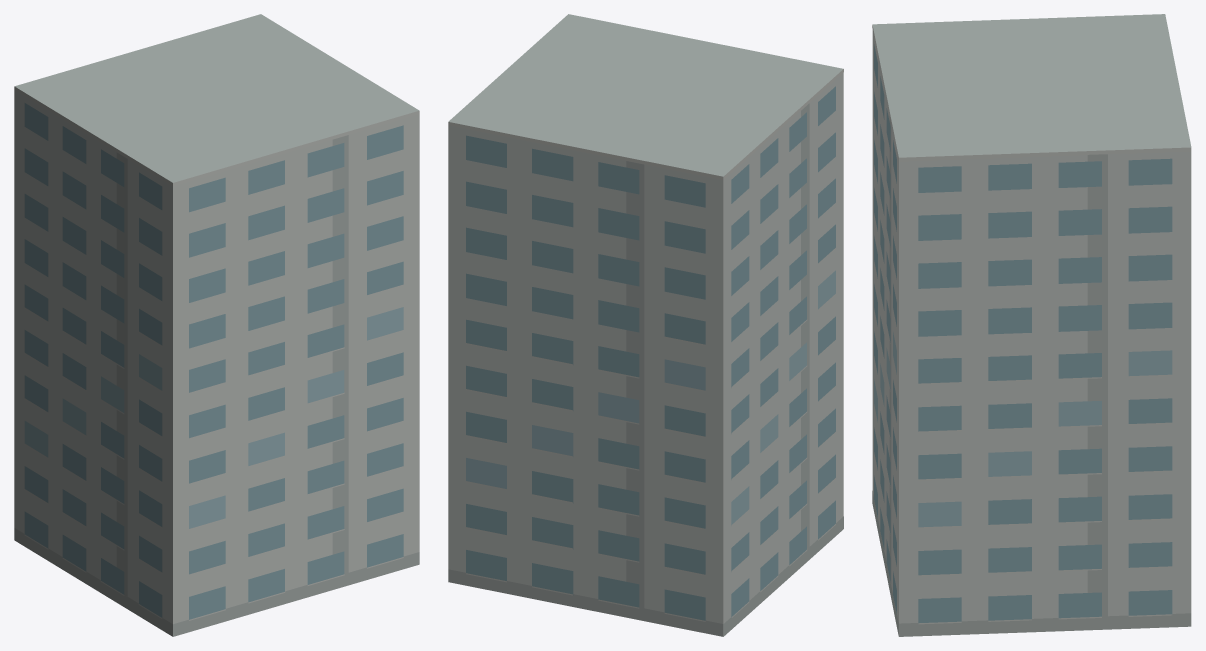
The model's file is residential-fb113b4d-f7bc-452b-ab7b-2f3bd2de611c.glb.
3 views of the same model, side by side, from view 1: azimuth 30°, elevation 25°; view 2: azimuth 150°, elevation 25°; view 3: azimuth 270°, elevation 25° (orthographic). The views are drawn at different scales.
Parts seen in each view (by area): view 1: residential-fb113b4d-f7bc-452b-ab7b-2f3bd2de611c.tmp; view 2: residential-fb113b4d-f7bc-452b-ab7b-2f3bd2de611c.tmp; view 3: residential-fb113b4d-f7bc-452b-ab7b-2f3bd2de611c.tmp.
Boxes of the visible parts, left/top/right/bottom form: residential-fb113b4d-f7bc-452b-ab7b-2f3bd2de611c.tmp: left=14, top=14, right=419, bottom=636; residential-fb113b4d-f7bc-452b-ab7b-2f3bd2de611c.tmp: left=448, top=14, right=843, bottom=636; residential-fb113b4d-f7bc-452b-ab7b-2f3bd2de611c.tmp: left=872, top=14, right=1191, bottom=636.
Bounding box in the file's own units: 19.95 × 31 × 18.71.
